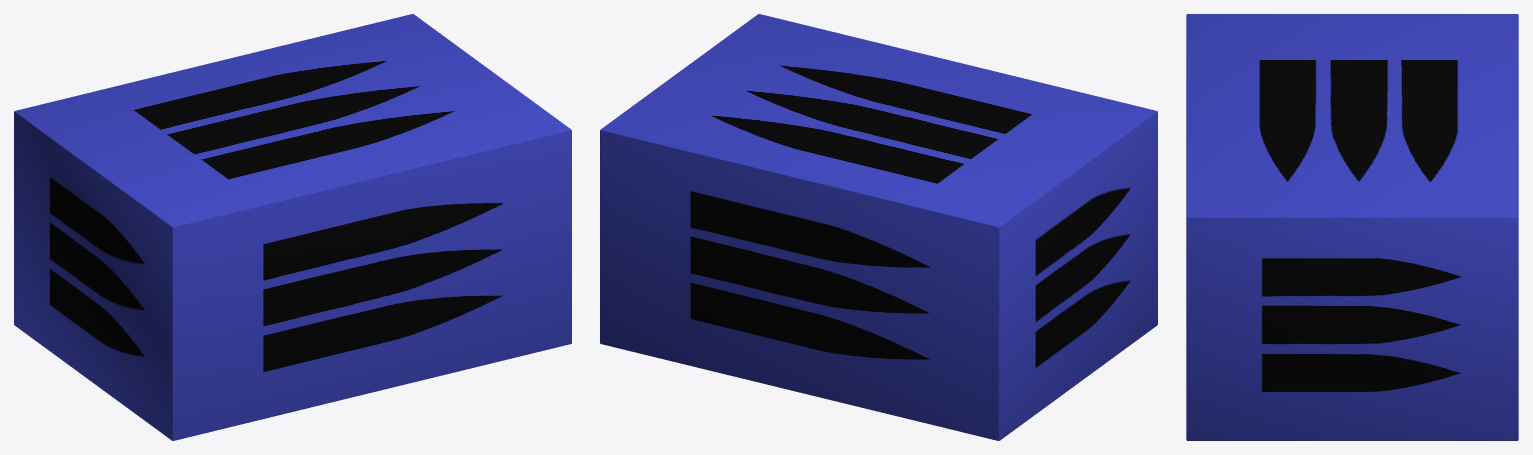
File: Rapid_fire!_exported.FBX
The picture shows the model from 3 angles, left to right: view 1: azimuth 30°, elevation 25°; view 2: azimuth 150°, elevation 25°; view 3: azimuth 270°, elevation 25°; orthographic projection. The views are drawn at different scales.
Visible parts, largest first — view 1: Box001; view 2: Box001; view 3: Box001.
Boxes of the visible parts, x1,y1,x2,y2 form: Box001: (14, 14, 571, 440); Box001: (600, 14, 1157, 440); Box001: (1186, 14, 1518, 440).
Size of the model in its own units: 29.91 by 15.33 by 20.6.
1 material, 1 textured.
